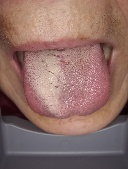tongue: (22, 53, 111, 120)
